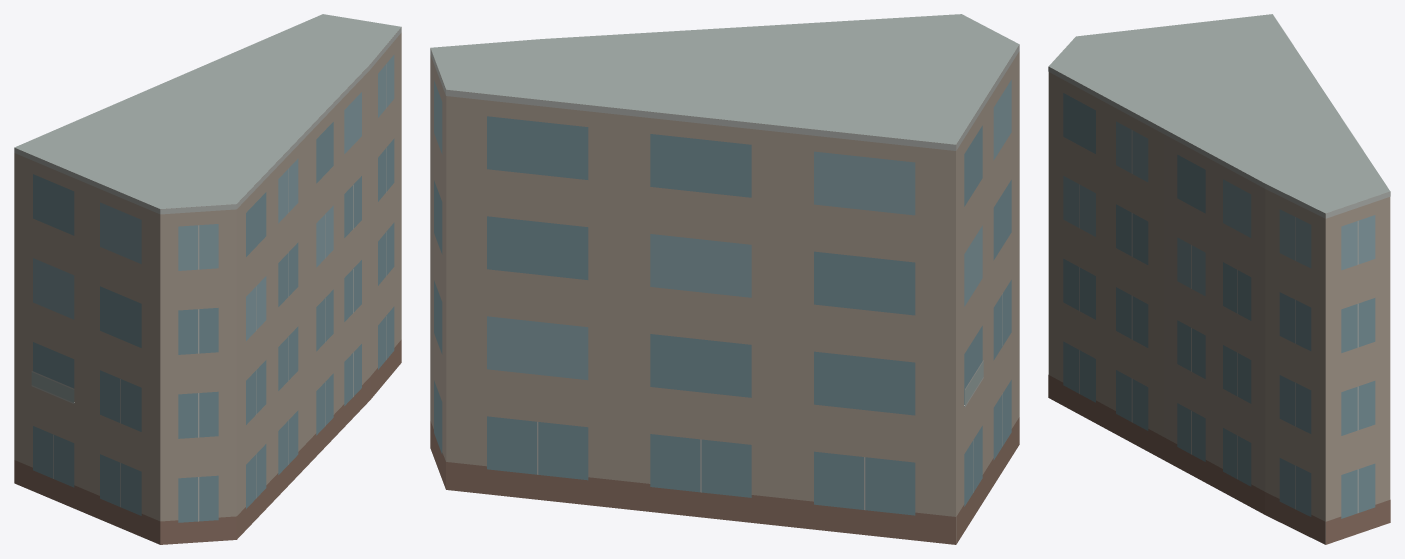
The model's file is survey-upis-32915318.glb.
The picture shows the model from 3 angles, left to right: view 1: azimuth 30°, elevation 25°; view 2: azimuth 150°, elevation 25°; view 3: azimuth 270°, elevation 25°; orthographic projection. The views are drawn at different scales.
Visible parts, largest first — view 1: survey-upis-32915318.tmp; view 2: survey-upis-32915318.tmp; view 3: survey-upis-32915318.tmp.
Boxes of the visible parts, bbox=[...] form: survey-upis-32915318.tmp: bbox=[14, 14, 401, 544]; survey-upis-32915318.tmp: bbox=[430, 14, 1019, 544]; survey-upis-32915318.tmp: bbox=[1048, 14, 1390, 544].
Bounding box in the file's own units: 19.9 × 15.4 × 14.41.
